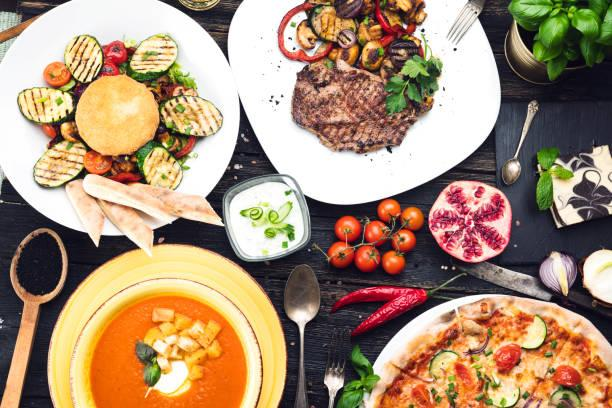Braised Crucian Carp: (0, 1, 237, 238), (232, 0, 494, 210), (47, 243, 278, 406)
